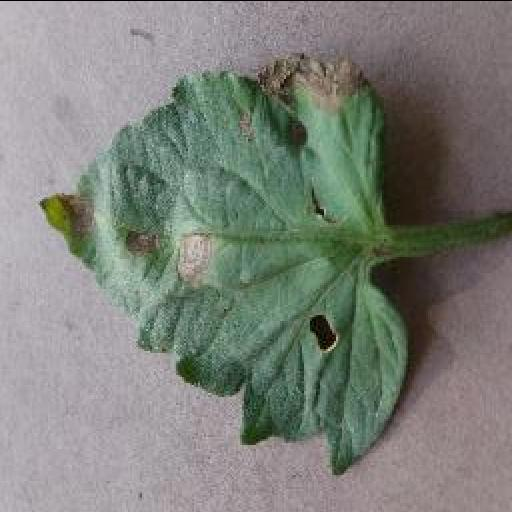disease_tomato: (36, 53, 410, 478)
